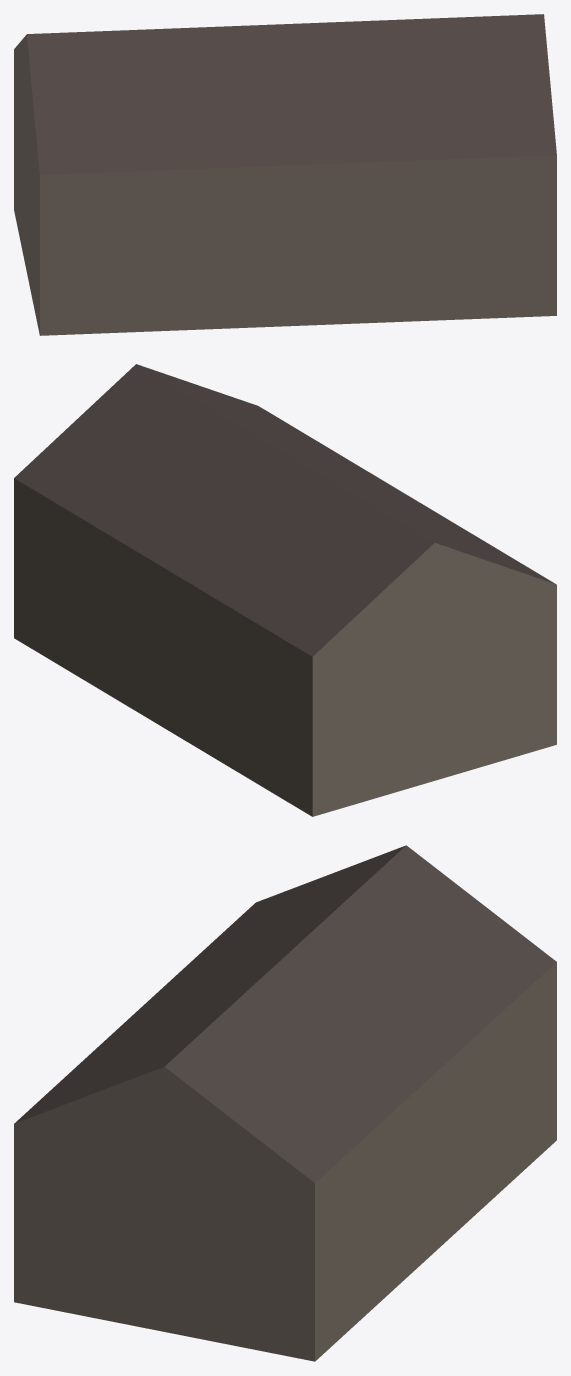
3 renders of one model, top to bottom at view 1: azimuth 30°, elevation 25°; view 2: azimuth 150°, elevation 25°; view 3: azimuth 270°, elevation 25°, orthographic. The views are drawn at different scales.
Visible parts, largest first — view 1: HP-w859082570; view 2: HP-w859082570; view 3: HP-w859082570.
Boxes of the visible parts, bbox=[...] form: HP-w859082570: bbox=[14, 14, 556, 335]; HP-w859082570: bbox=[14, 364, 556, 816]; HP-w859082570: bbox=[14, 845, 556, 1361].
Size of the model in its own units: 20.26 by 8.92 by 16.55.
